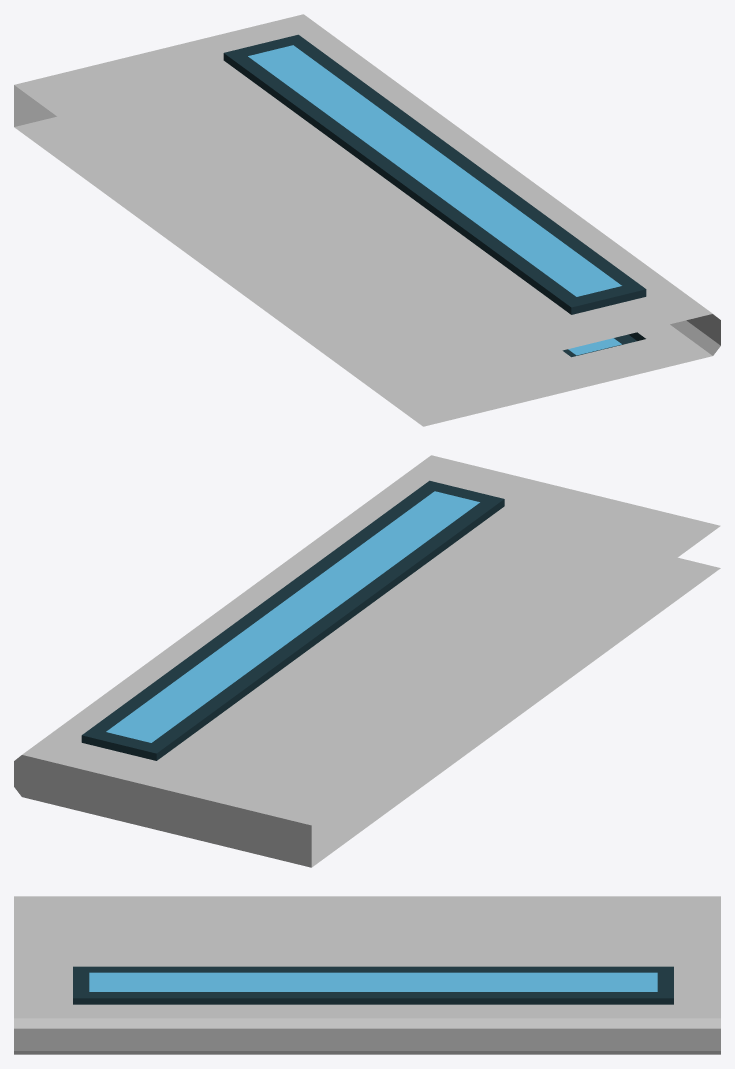
File: Door 01 White.FBX
The picture shows the model from 3 angles, top to bottom: view 1: azimuth 30°, elevation 25°; view 2: azimuth 150°, elevation 25°; view 3: azimuth 270°, elevation 25°; orthographic projection. The views are drawn at different scales.
Parts seen in each view (by area): view 1: Door 01 White; view 2: Door 01 White; view 3: Door 01 White.
Boxes of the visible parts, box(x1,y1,x2,y2) form: Door 01 White: box(14, 14, 720, 426); Door 01 White: box(14, 455, 720, 867); Door 01 White: box(14, 896, 720, 1054).
Size of the model in its own units: 91.33 by 17.15 by 218.
Materials: 1 (1 with a texture image).
